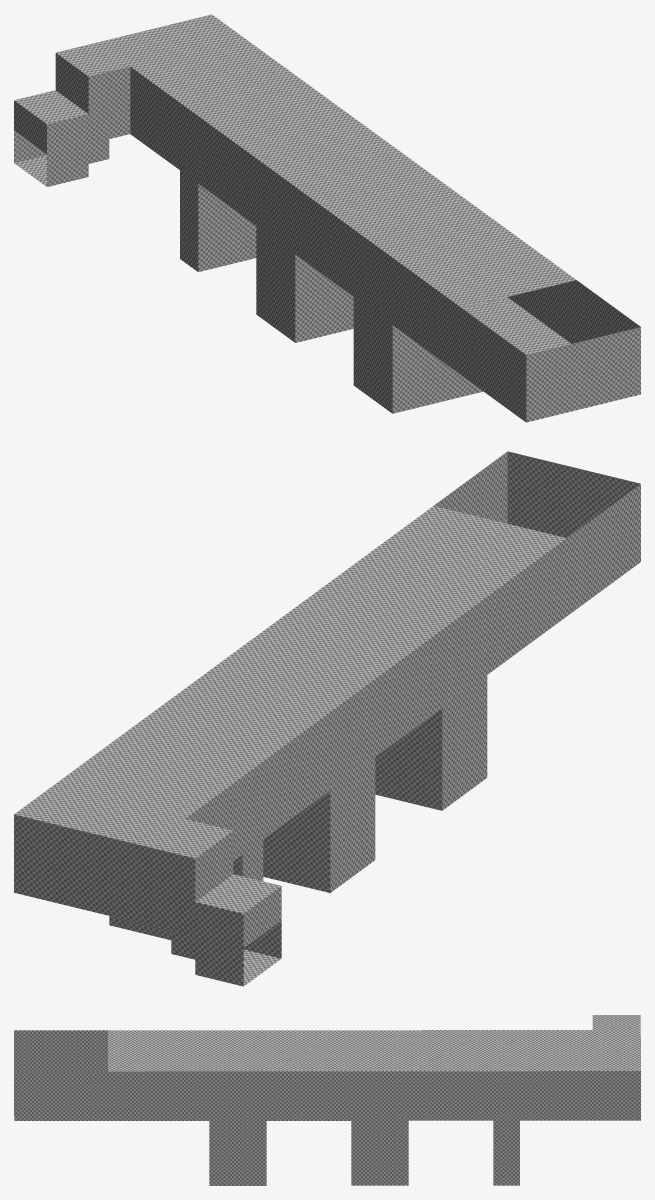
The model's file is prv1e-2.obj.
3 renders of one model, top to bottom at view 1: azimuth 30°, elevation 25°; view 2: azimuth 150°, elevation 25°; view 3: azimuth 270°, elevation 25°, orthographic. The views are drawn at different scales.
Parts seen in each view (by area): view 1: Cube.001; view 2: Cube.001; view 3: Cube.001.
Part boxes in pixels (x1=…): Cube.001: x1=14, y1=14, x2=640, y2=422; Cube.001: x1=14, y1=451, x2=640, y2=986; Cube.001: x1=14, y1=1015, x2=640, y2=1185.
Size of the model in its own units: 30.8 by 23.03 by 114.
